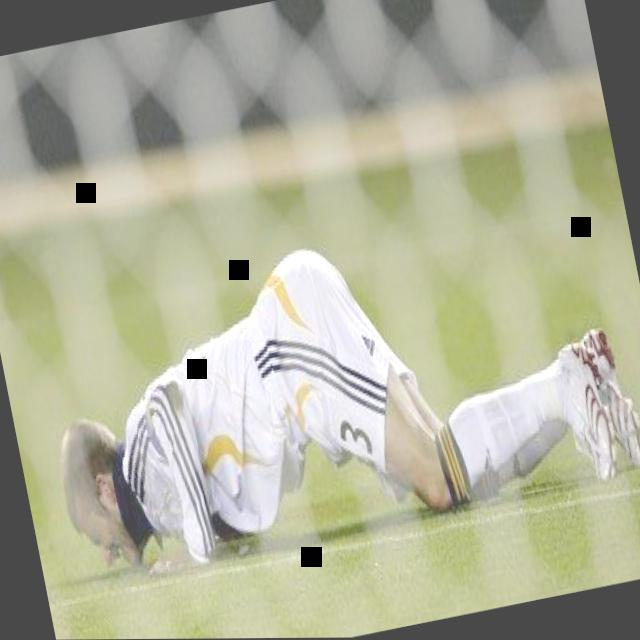Fall-Detected: (11, 159, 640, 609)
